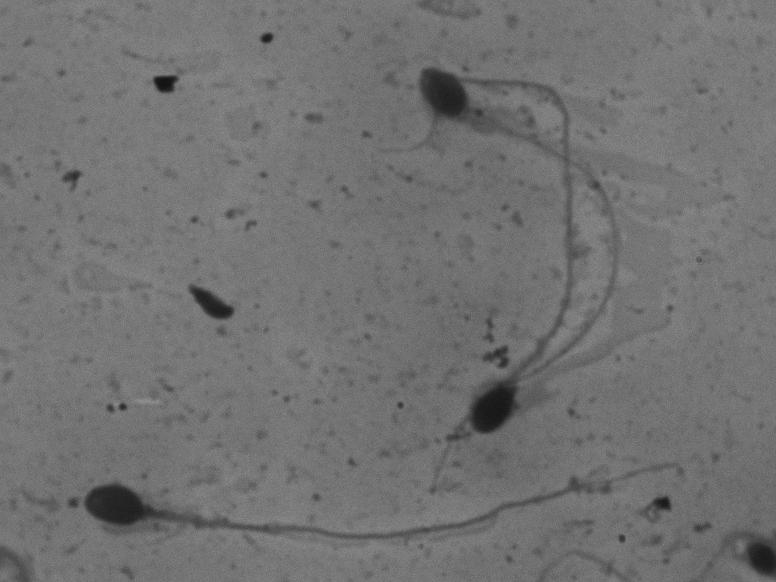Normal: (380, 37, 640, 394), (63, 436, 717, 557), (437, 59, 590, 443)
